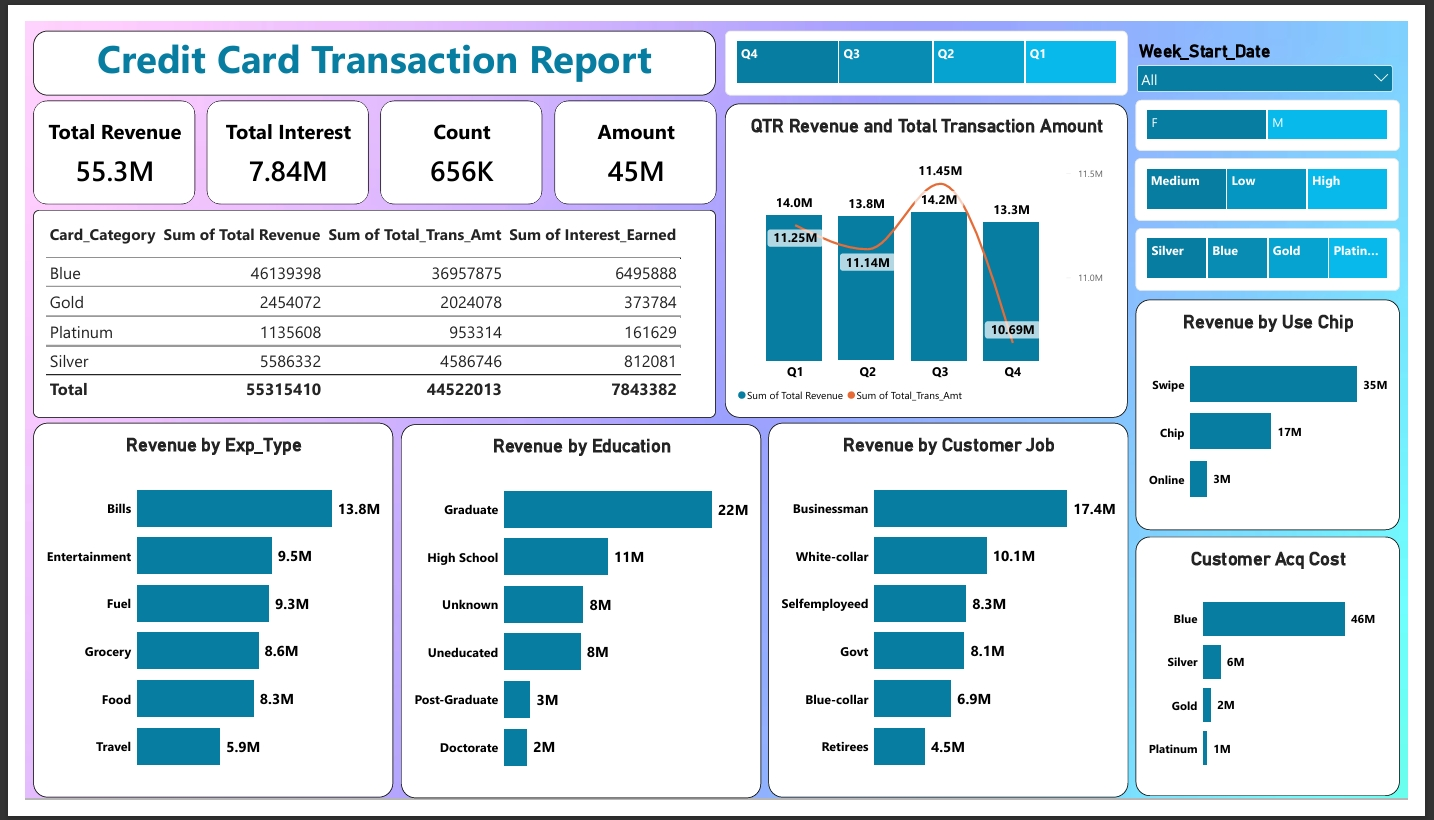

What the dashboard file says about the page in this screenshot:
{"tool":"powerbi","page":{"name":"Page 2","canvas":[1920,1080],"ordinal":1},"visuals":[{"type":"textbox","box":[10.9,12.7,948,90],"z":0},{"type":"lineStackedColumnComboChart","title":"QTR Revenue and Total Transaction Amount","fields":{"Category":["public cc_details.Qtr"],"Y":["Sum(public cc_details.Total Revenue)"],"Y2":["Sum(public cc_details.Total_Trans_Amt)"]},"box":[971.8,114,559.2,436.1],"z":1000},{"type":"barChart","title":"Revenue by Exp_Type","fields":{"Y":["Sum(public cc_details.Total Revenue)"],"Category":["public cc_details.Exp_Type"]},"box":[10.9,557.4,500,519.4],"z":2000},{"type":"barChart","title":"Revenue by Customer Job","fields":{"Y":["Sum(public cc_details.Total Revenue)"],"Category":["Customer.Customer_Job"]},"box":[1031.5,557.4,500,519.4],"z":3000},{"type":"barChart","title":"Revenue by Education","fields":{"Y":["Sum(public cc_details.Total Revenue)"],"Category":["Customer.Education_Level"]},"box":[522,559.2,500,519],"z":4000},{"type":"barChart","title":"Revenue by Use Chip","fields":{"Y":["Sum(public cc_details.Total Revenue)"],"Category":["public cc_details.Use_Chip"]},"box":[1541.8,386,367.4,320],"z":5000},{"type":"barChart","title":"Customer Acq Cost","fields":{"Y":["Sum(public cc_details.Total Revenue)"],"Category":["public cc_details.Card_Category"]},"box":[1541.8,715,367.4,360],"z":6000},{"type":"tableEx","fields":{"Values":["public cc_details.Card_Category","Sum(public cc_details.Total Revenue)","Sum(public cc_details.Total_Trans_Amt)","Sum(public cc_details.Interest_Earned)"]},"box":[10.9,262.4,948.3,287.7],"z":7000},{"type":"cardVisual","fields":{"Data":["Sum(public cc_details.Total Revenue)"]},"box":[10.9,110,225,144],"z":8000},{"type":"cardVisual","fields":{"Data":["Sum(public cc_details.Interest_Earned)"]},"box":[252,110.4,225,144],"z":9000},{"type":"cardVisual","fields":{"Data":["Sum(public cc_details.Total_Trans_Ct)"]},"box":[493,110.4,225,144],"z":10000},{"type":"cardVisual","fields":{"Data":["Sum(public cc_details.Total_Trans_Amt)"]},"box":[734.7,110.4,225,144],"z":11000},{"type":"slicer","fields":{"Values":["public cc_details.Week_Start_Date"]},"box":[1523,12.7,397,99.5],"z":12000},{"type":"treemap","fields":{"Group":["public cc_details.Qtr"],"Values":["Avg(public cc_details.Client_Num)"]},"box":[971.8,12.7,559.2,90],"z":13000},{"type":"treemap","fields":{"Values":["Avg(Customer.Client_Num)"],"Group":["Customer.Gender"]},"box":[1541.8,109,367.4,70.6],"z":14000},{"type":"treemap","fields":{"Group":["public cc_details.Card_Category"],"Values":["Avg(public cc_details.Client_Num)"]},"box":[1541.8,287,367.4,86.9],"z":15000},{"type":"treemap","fields":{"Group":["Customer.IncomeGroup"],"Values":["Avg(Customer.Client_Num)"]},"box":[1541,190,367.4,86.9],"z":16000}]}

Visuals, with their boxes in screenshot pixels (x1, y1, x2, y2), scaled from the page's 1920x1080 canvas onto the 1434x820 screenshot:
textbox: (8, 10, 716, 78)
"QTR Revenue and Total Transaction Amount" lineStackedColumnComboChart: (726, 87, 1143, 418)
"Revenue by Exp_Type" barChart: (8, 423, 382, 818)
"Revenue by Customer Job" barChart: (770, 423, 1144, 818)
"Revenue by Education" barChart: (390, 425, 763, 819)
"Revenue by Use Chip" barChart: (1152, 293, 1426, 536)
"Customer Acq Cost" barChart: (1152, 543, 1426, 816)
tableEx - public cc_details.Card_Category x Sum(public cc_details.Total Revenue): (8, 199, 716, 418)
cardVisual - Sum(public cc_details.Total Revenue): (8, 84, 176, 193)
cardVisual - Sum(public cc_details.Interest_Earned): (188, 84, 356, 193)
cardVisual - Sum(public cc_details.Total_Trans_Ct): (368, 84, 536, 193)
cardVisual - Sum(public cc_details.Total_Trans_Amt): (549, 84, 717, 193)
slicer - public cc_details.Week_Start_Date: (1137, 10, 1433, 85)
treemap - public cc_details.Qtr x Avg(public cc_details.Client_Num): (726, 10, 1143, 78)
treemap - Avg(Customer.Client_Num) x Customer.Gender: (1152, 83, 1426, 136)
treemap - public cc_details.Card_Category x Avg(public cc_details.Client_Num): (1152, 218, 1426, 284)
treemap - Customer.IncomeGroup x Avg(Customer.Client_Num): (1151, 144, 1425, 210)
